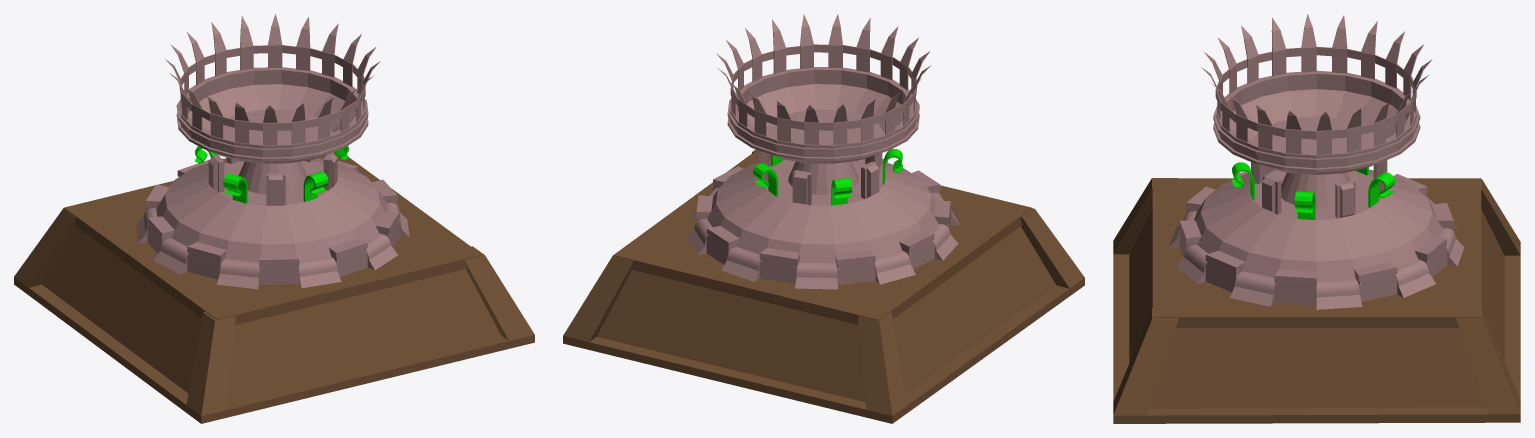
File: Brazier.fbx
3 renders of one model, left to right at view 1: azimuth 30°, elevation 25°; view 2: azimuth 150°, elevation 25°; view 3: azimuth 270°, elevation 25°, orthographic. The views are drawn at different scales.
Parts seen in each view (by area): view 1: BrazierBase3; view 2: BrazierBase3; view 3: BrazierBase3.
Boxes of the visible parts, x1=… form: BrazierBase3: x1=14, y1=14, x2=534, y2=423; BrazierBase3: x1=563, y1=14, x2=1084, y2=423; BrazierBase3: x1=1113, y1=14, x2=1520, y2=423.
Bounding box in the file's own units: 4.26 × 3.1 × 4.2.
